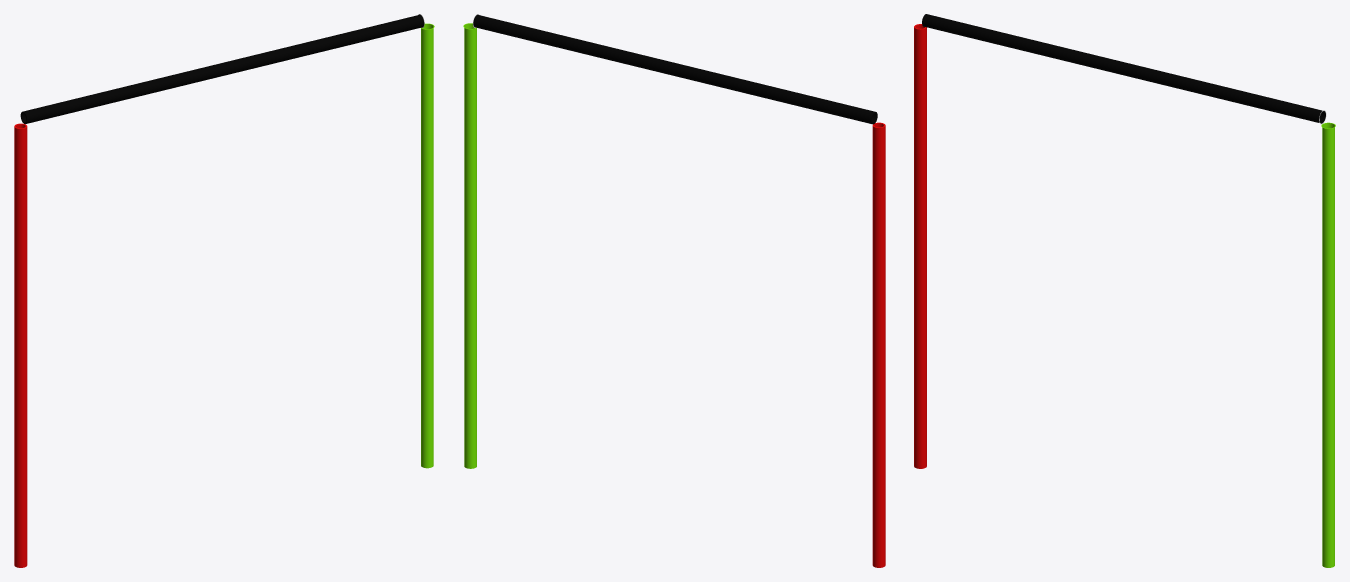
The model's file is gate_main_arena.dae.
3 views of the same model, side by side, from view 1: azimuth 30°, elevation 25°; view 2: azimuth 150°, elevation 25°; view 3: azimuth 330°, elevation 25° (orthographic).
Parts seen in each view (by area): view 1: SketchUp (×3); view 2: SketchUp (×3); view 3: SketchUp (×3).
Boxes of the visible parts, bbox=[...] form: SketchUp (×3): bbox=[14, 14, 433, 567]; SketchUp (×3): bbox=[464, 14, 885, 567]; SketchUp (×3): bbox=[914, 14, 1334, 567].
Bounding box in the file's own units: 58.98 × 1.87 × 60.86.
